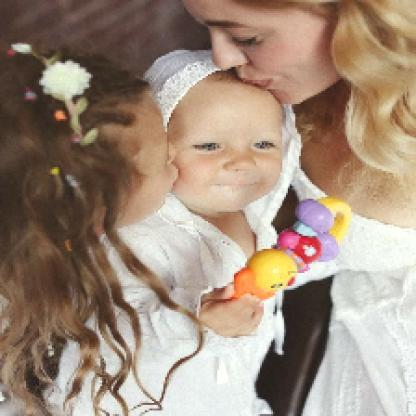child: (99, 49, 304, 415)
